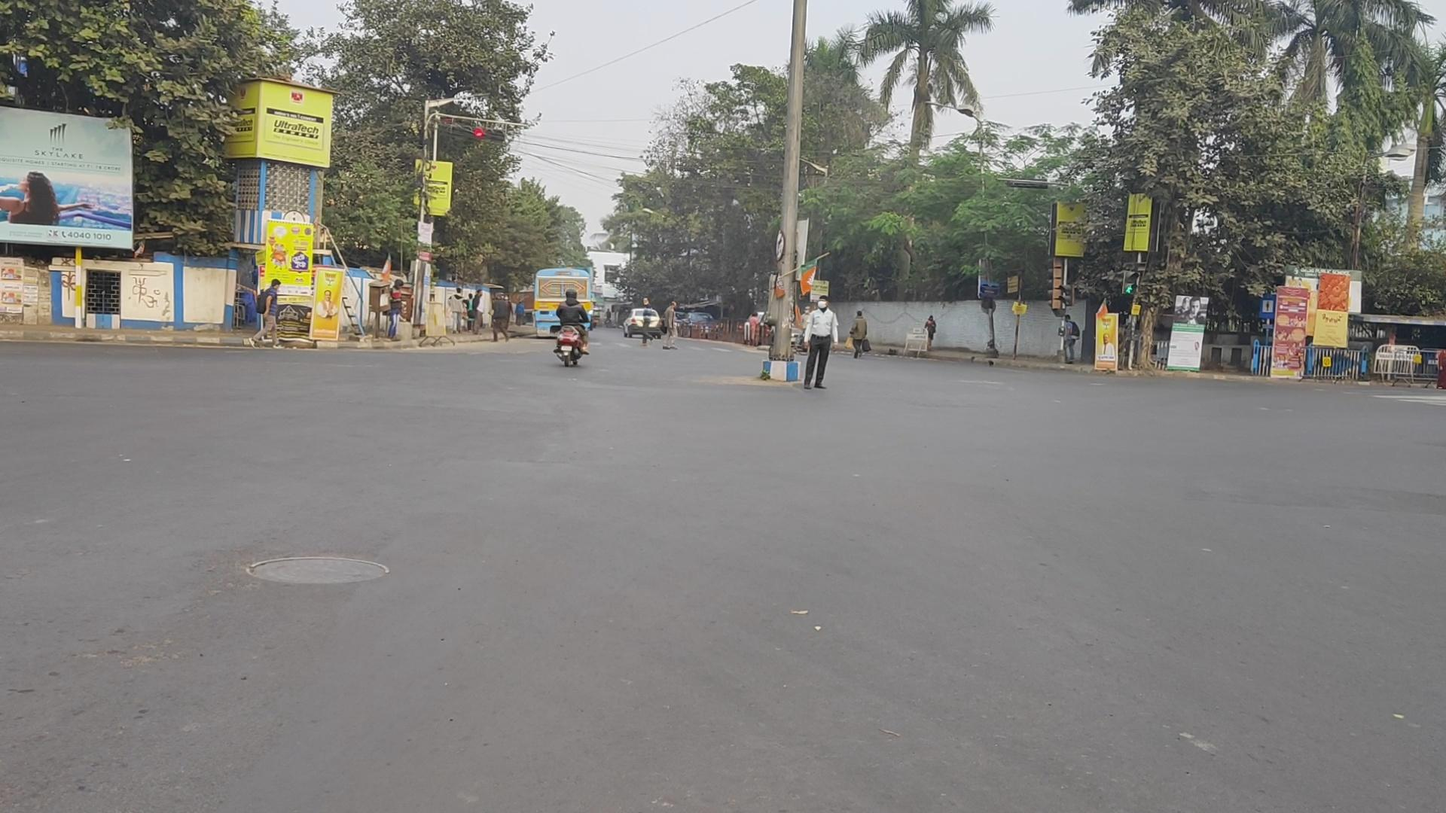Bus: (533, 267, 593, 339)
bike: (553, 288, 592, 367)
car: (623, 308, 663, 339), (679, 312, 719, 340)
